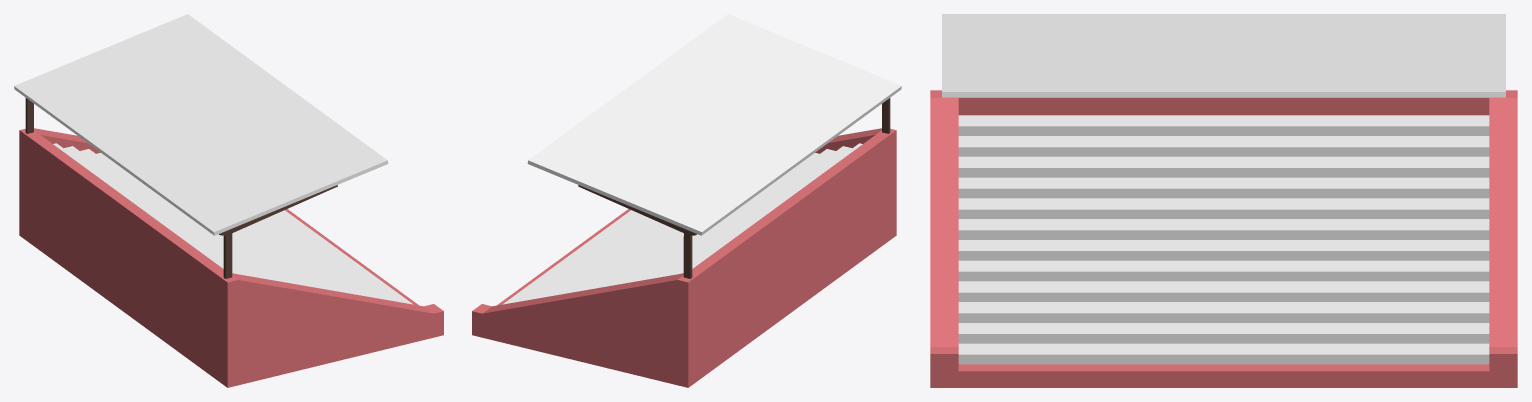
File: stands.fbx
3 views of the same model, side by side, from view 1: azimuth 30°, elevation 25°; view 2: azimuth 150°, elevation 25°; view 3: azimuth 270°, elevation 25° (orthographic). The views are drawn at different scales.
Parts seen in each view (by area): view 1: stands; view 2: stands; view 3: stands.
Part boxes in pixels (x1,y1,x2,y2): stands: (14,14,443,387); stands: (472,14,901,387); stands: (930,14,1517,387).
Size of the model in its own units: 627 by 489 by 1000.
